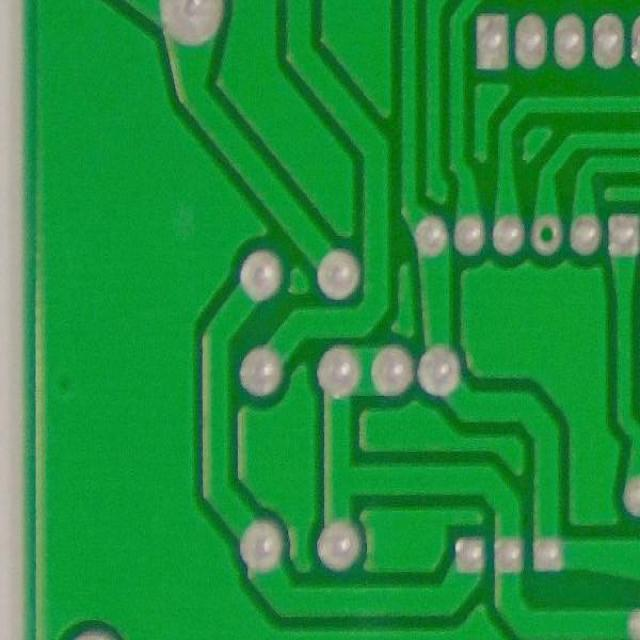missing hole: (524, 211, 570, 264)
